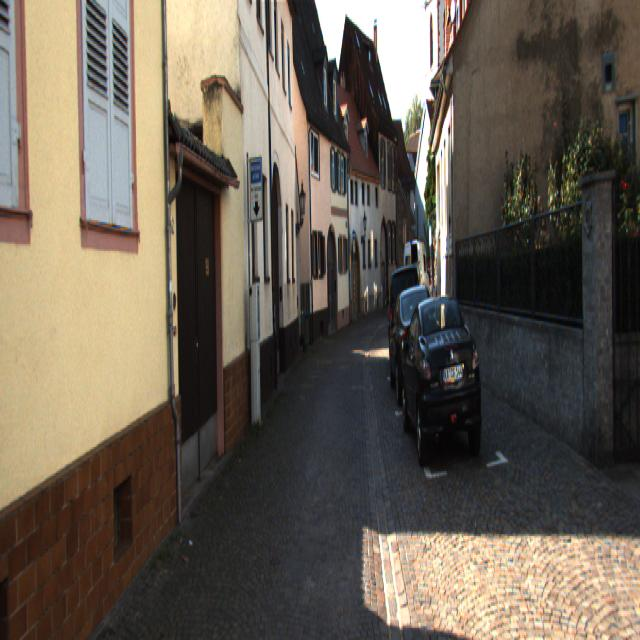Car: (397, 289, 486, 467), (388, 280, 442, 409), (387, 262, 422, 375), (402, 236, 432, 314)
